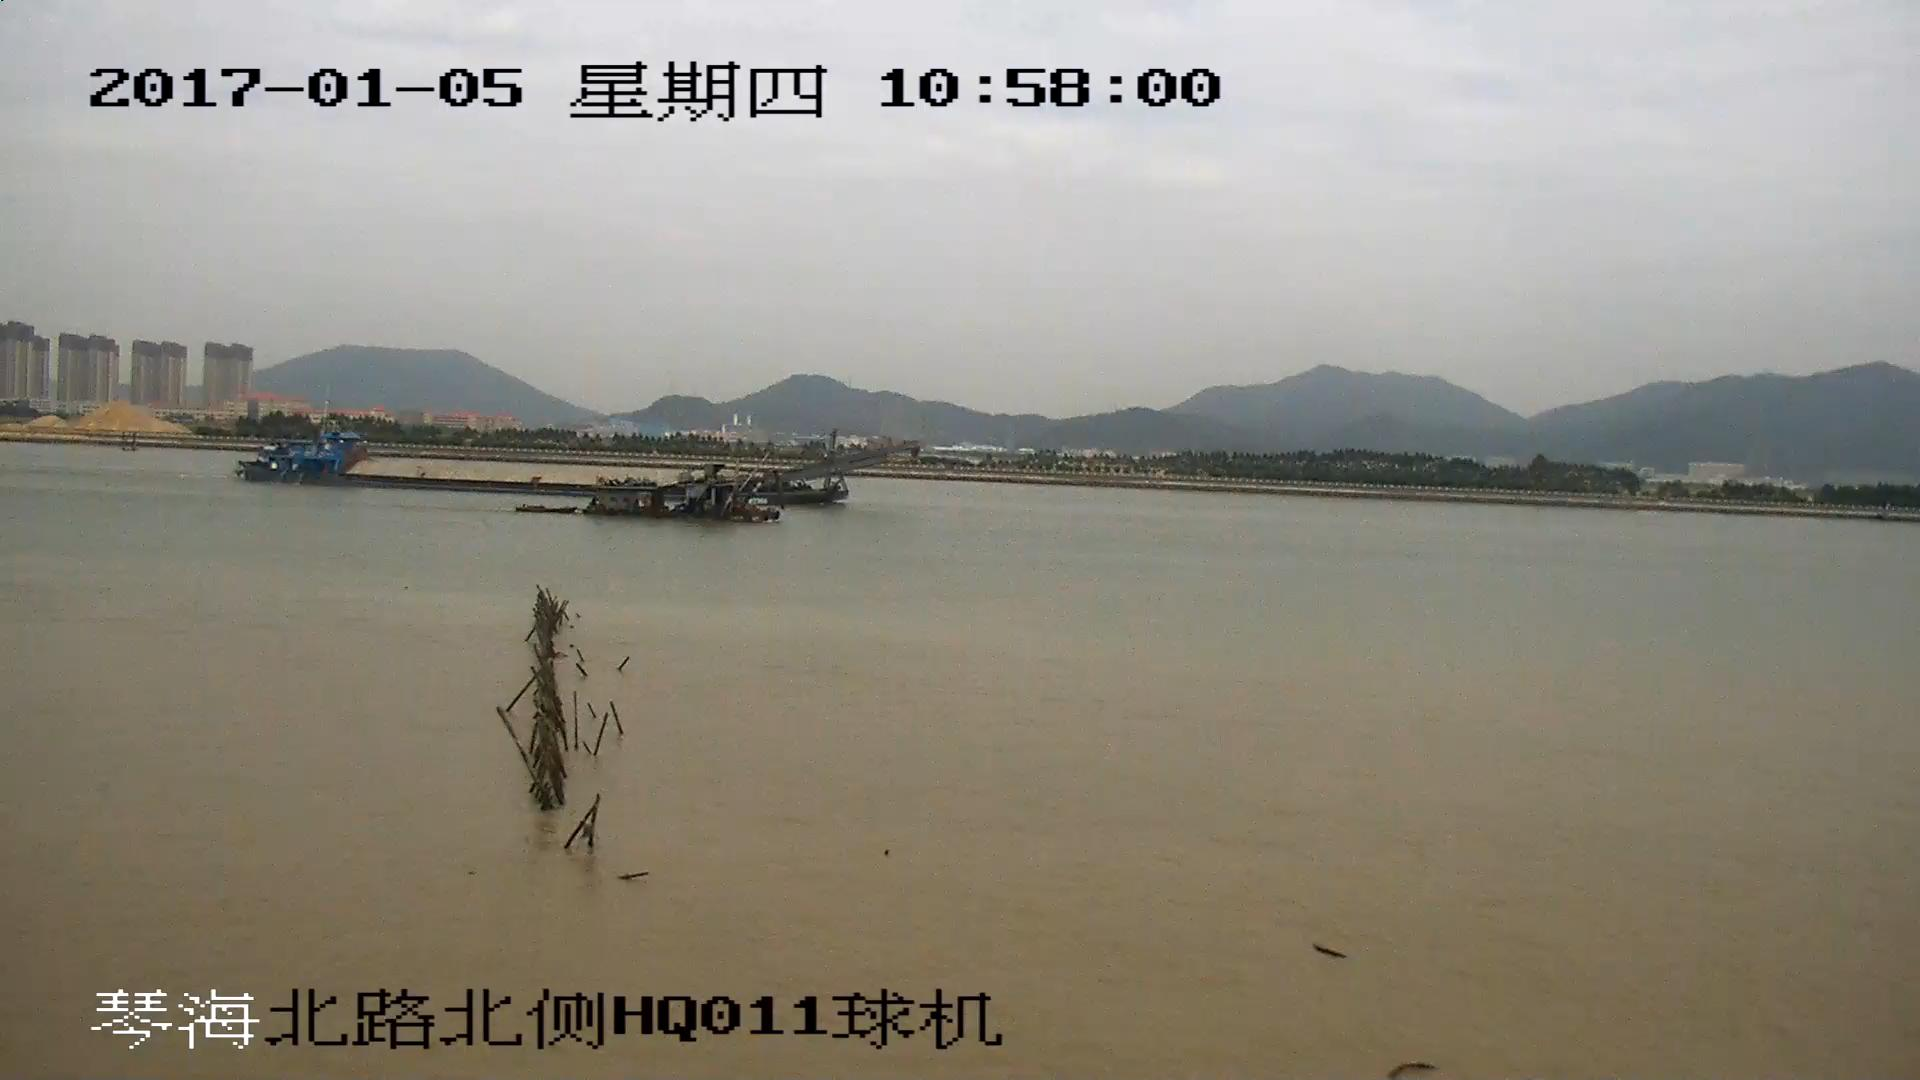ore carrier: (250, 440, 920, 524)
